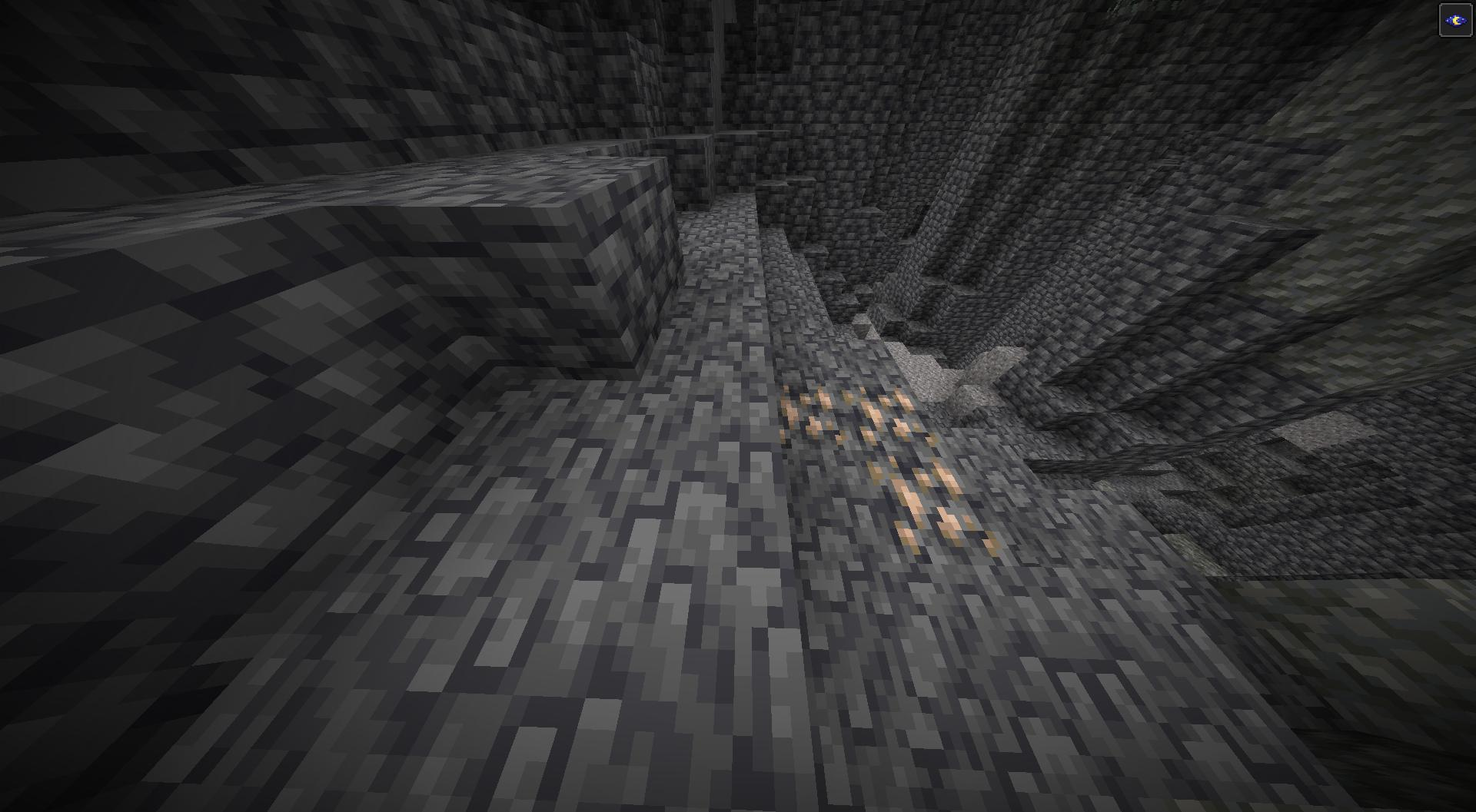iron ore: (873, 452, 983, 557), (847, 386, 925, 453), (772, 384, 843, 444)
